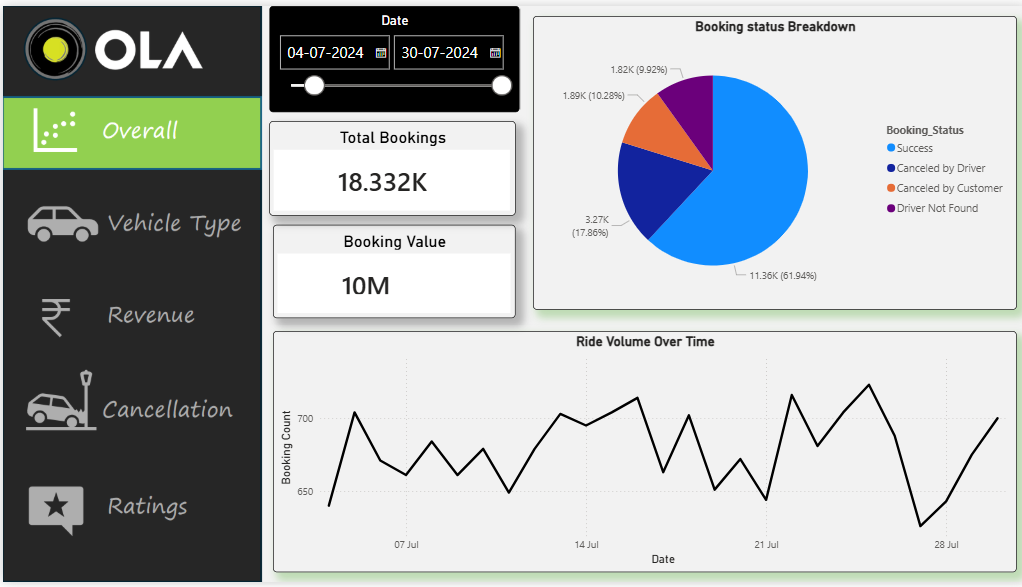

What the dashboard file says about the page in this screenshot:
{"tool":"powerbi","page":{"name":"Overall","canvas":[1280,720],"ordinal":0},"visuals":[{"type":"actionButton","box":[0,203.9,240.1,90.5],"z":0},{"type":"actionButton","box":[0,226.6,332.8,93.8],"z":1000},{"type":"actionButton","box":[0,343.8,321.9,101.6],"z":2000},{"type":"actionButton","box":[0,468.8,321.9,85.9],"z":3000},{"type":"actionButton","box":[0,593.8,321.9,75],"z":4000},{"type":"lineChart","title":"Ride Volume Over Time","fields":{"Y":["CountNonNull(Sheet1.Booking_ID)"],"Category":["Sheet1.Date"]},"box":[337.5,406.2,929.7,301.6],"z":5000},{"type":"pieChart","title":"Booking status Breakdown","fields":{"Category":["Sheet1.Booking_Status"],"Y":["CountNonNull(Sheet1.Booking_ID)"]},"box":[662.5,12.5,604.7,367.2],"z":6000},{"type":"slicer","title":"Date","fields":{"Values":["Sheet1.Date"]},"box":[332.8,0,312.5,132.8],"z":7000},{"type":"cardVisual","title":"Total Bookings","fields":{"Data":["Count(Sheet1.Booking_ID)"]},"box":[332.8,143.8,307.8,118.8],"z":8000},{"type":"cardVisual","title":"Booking Value","fields":{"Data":["Sum(Sheet1.Booking_Value)"]},"box":[337.5,273.4,303.1,117.2],"z":9000}]}

Visuals, with their boxes in screenshot pixels (x1, y1, x2, y2), scaled from the page's 1280x720 canvas onto the 1022x587 screenshot:
actionButton: 0, 166, 192, 240
actionButton: 0, 185, 266, 261
actionButton: 0, 280, 257, 363
actionButton: 0, 382, 257, 452
actionButton: 0, 484, 257, 545
"Ride Volume Over Time" lineChart: 269, 331, 1012, 577
"Booking status Breakdown" pieChart: 529, 10, 1012, 310
"Date" slicer: 266, 0, 515, 108
"Total Bookings" cardVisual: 266, 117, 511, 214
"Booking Value" cardVisual: 269, 223, 511, 318
